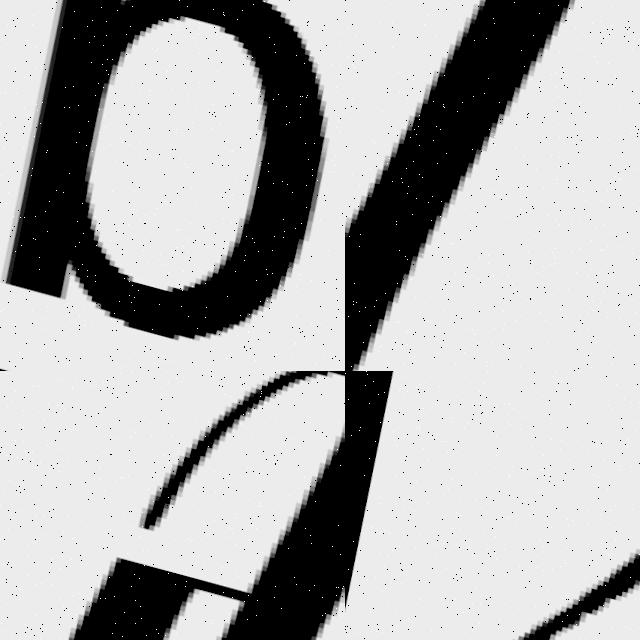E: (58, 422, 345, 640)
L: (345, 0, 618, 371)
Q: (0, 0, 345, 371)
W: (380, 429, 640, 640)
